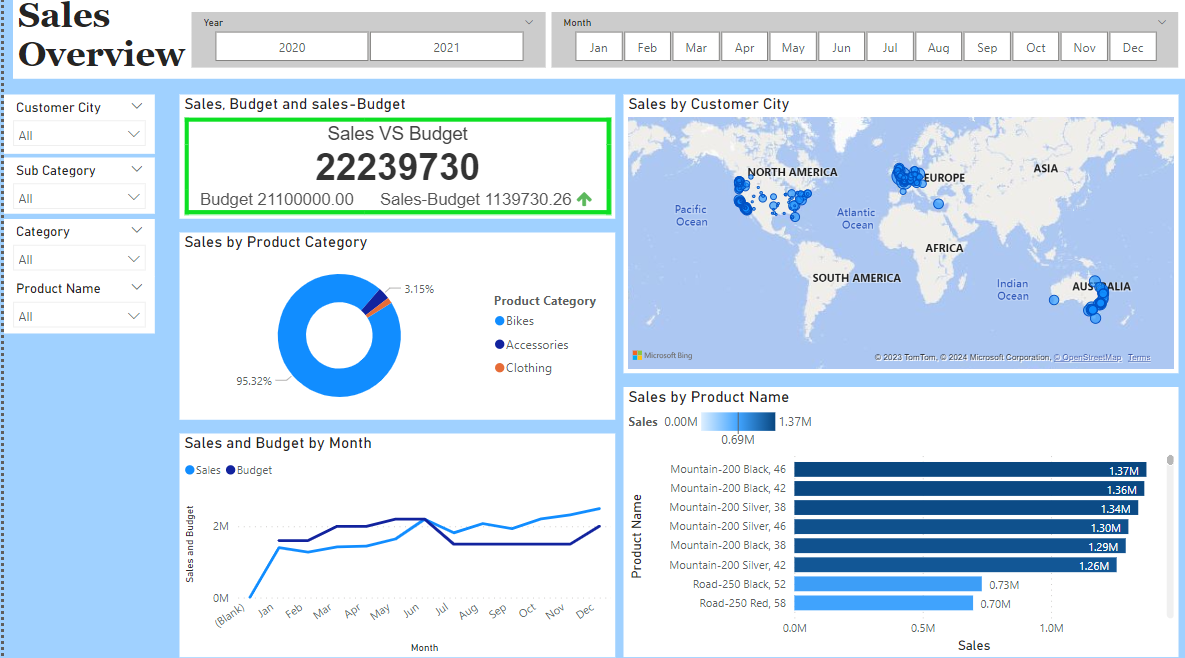

The dashboard page shown, as its layout file describes it:
{"tool":"powerbi","page":{"name":"Sales","canvas":[1280,720],"ordinal":0},"visuals":[{"type":"textbox","box":[9.4,0,1270.6,94.4],"z":0},{"type":"slicer","fields":{"Values":["Customers.Customer City"]},"box":[0,111.4,162.4,64.2],"z":1000},{"type":"slicer","fields":{"Values":["Products.Sub Category"]},"box":[0,179.4,162.4,60.4],"z":2000},{"type":"slicer","fields":{"Values":["Products.Product Category"]},"box":[0,245.4,162.4,62.3],"z":3000},{"type":"slicer","fields":{"Values":["Date.Year"]},"box":[202.2,22.7,381.8,59.9],"z":4000},{"type":"slicer","fields":{"Values":["Date.MonthShort"]},"box":[590.6,22.7,676.3,59.9],"z":5000},{"type":"slicer","fields":{"Values":["Products.Product Name"]},"box":[0,307.7,162.4,62.3],"z":6000},{"type":"donutChart","fields":{"Category":["Products.Product Category"],"Y":["Sales.Sales"]},"box":[188.8,260.5,470.1,202],"z":8000},{"type":"lineChart","fields":{"Y":["Sales.Sales","Budget.Budget Amount"],"Category":["Date.MonthShort"]},"box":[188.8,477.6,470.1,241.7],"z":9000},{"type":"barChart","fields":{"Y":["Sales.Sales"],"Category":["Products.Product Name"]},"box":[668.2,427.1,598.7,291.2],"z":10000},{"type":"map","fields":{"Size":["Sales.Sales"],"Category":["Customers.Customer City"]},"box":[668.2,111.6,598.7,300.9],"z":11000},{"type":"BBED0A4D4D8D44CE93CF2DAFADEE466C","fields":{"actual":["Sales.Sales"],"target1":["Sum(Budget.Budget)"],"target2":["Budget.sales-Budget"]},"box":[188.8,111.4,470.1,134],"z":12500}]}

Visuals, with their boxes in screenshot pixels (x1, y1, x2, y2), scaled from the page's 1280x720 canvas onto the 1185x658 screenshot:
textbox: detection(9, 0, 1184, 86)
slicer - Customers.Customer City: detection(0, 102, 150, 160)
slicer - Products.Sub Category: detection(0, 164, 150, 219)
slicer - Products.Product Category: detection(0, 224, 150, 281)
slicer - Date.Year: detection(187, 21, 541, 75)
slicer - Date.MonthShort: detection(547, 21, 1173, 75)
slicer - Products.Product Name: detection(0, 281, 150, 338)
donutChart - Products.Product Category x Sales.Sales: detection(175, 238, 610, 423)
lineChart - Sales.Sales x Budget.Budget Amount: detection(175, 436, 610, 657)
barChart - Sales.Sales x Products.Product Name: detection(619, 390, 1173, 656)
map - Sales.Sales x Customers.Customer City: detection(619, 102, 1173, 377)
BBED0A4D4D8D44CE93CF2DAFADEE466C - Sales.Sales x Sum(Budget.Budget): detection(175, 102, 610, 224)
